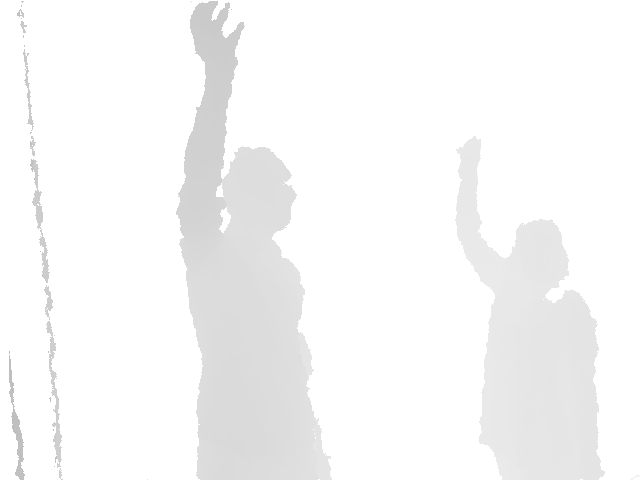hand: (188, 1, 246, 71), (456, 134, 482, 172)
head: (221, 146, 298, 238), (508, 219, 569, 287)
person: (173, 1, 334, 480), (454, 135, 607, 479)
